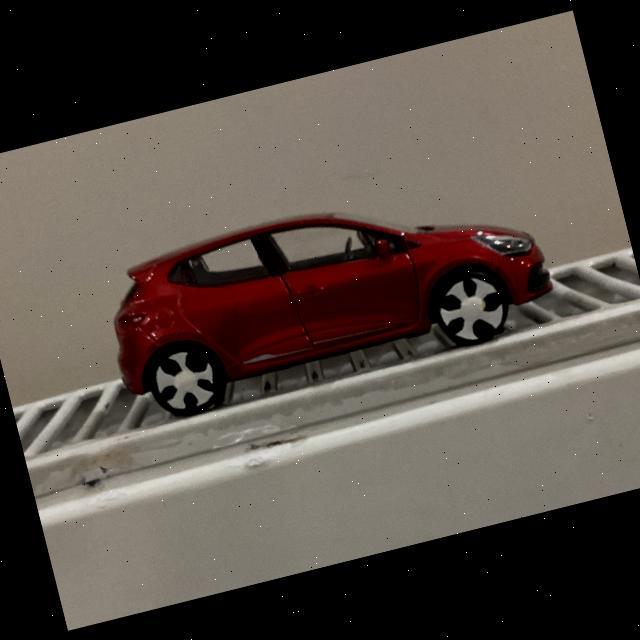Yanlis_Jant: (432, 269, 511, 347), (148, 344, 222, 416)
